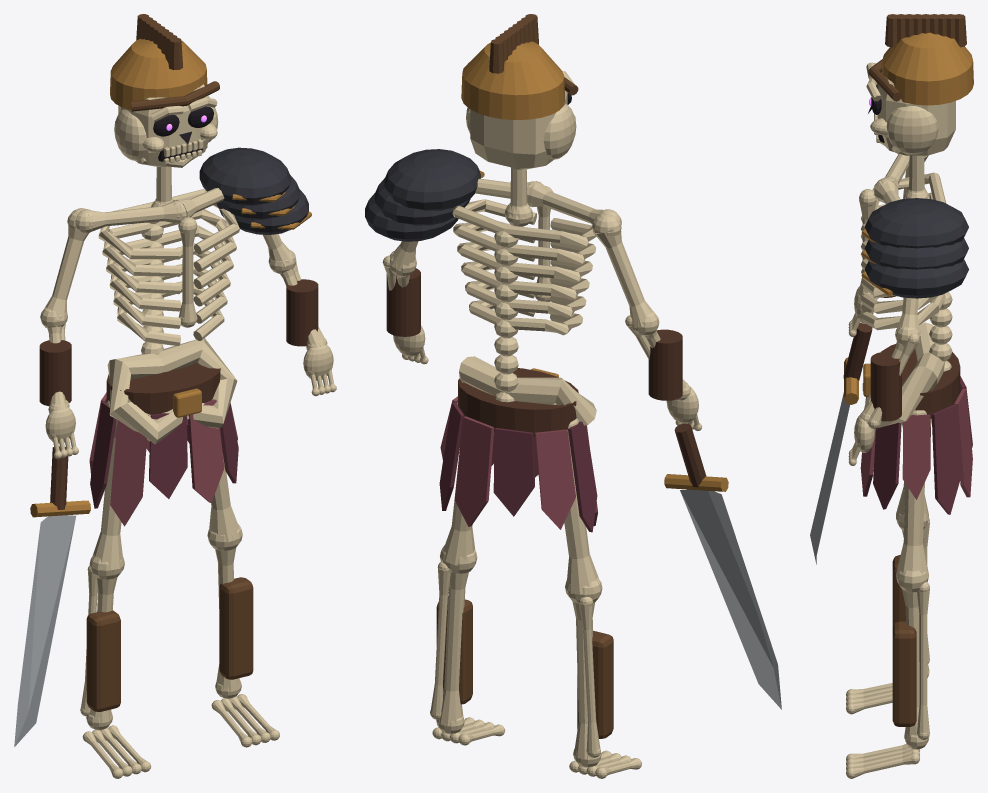
File: melee.glb
3 renders of one model, left to right at view 1: azimuth 30°, elevation 25°; view 2: azimuth 150°, elevation 25°; view 3: azimuth 270°, elevation 25°, orthographic. The views are drawn at different scales.
Parts seen in each view (by area): view 1: Steel sword blade, Open bronze helmet, Layered iron shoulder plate, Bronze shin guard, Bronze shin guard.001, Pelvis arch, Skeleton belt, Ragged cloth strip.006, Pelvis arch.001, Ragged cloth strip.008, Ragged cloth strip.007, Arm guard.001 (+35 smaller); view 2: Steel sword blade, Open bronze helmet, Layered iron shoulder plate, Skeleton belt, Skull cranium, Ragged cloth strip.002, Ragged cloth strip.004, Ragged cloth strip.003, Tibia.001, Arm guard, Bronze shin guard, Pelvis arch (+27 smaller); view 3: Open bronze helmet, Layered iron shoulder plate, Layered iron shoulder plate.002, Bronze shin guard.001, Ragged cloth strip.001, Layered iron shoulder plate.001, Temple.001, Ragged cloth strip, Arm guard.001, Ragged cloth strip.009, Femur.001, Skull cranium (+31 smaller).
Part boxes in pixels (x1,y1,x2,y2): Steel sword blade: (14,515,76,746); Open bronze helmet: (110,38,207,110); Layered iron shoulder plate: (199,147,290,205); Bronze shin guard: (86,610,120,711); Bronze shin guard.001: (219,577,253,679); Pelvis arch: (107,353,187,444); Skeleton belt: (106,363,220,414); Ragged cloth strip.006: (110,415,148,526); Pelvis arch.001: (158,338,237,428); Ragged cloth strip.008: (188,399,224,502); Ragged cloth strip.007: (149,413,187,498); Arm guard.001: (286,279,318,346); Steel sword blade: (680,489,781,709); Open bronze helmet: (461,41,564,119); Layered iron shoulder plate: (384,149,480,210); Skeleton belt: (458,368,578,437); Skull cranium: (470,90,567,169); Ragged cloth strip.002: (454,416,494,526); Ragged cloth strip.004: (535,429,575,529); Ragged cloth strip.003: (493,428,534,516); Tibia.001: (437,572,468,726); Arm guard: (648,329,682,400); Bronze shin guard: (577,630,613,738); Pelvis arch: (505,377,596,425); Open bronze helmet: (882,32,973,105); Layered iron shoulder plate: (864,198,968,248); Layered iron shoulder plate.002: (864,259,968,298); Bronze shin guard.001: (892,621,916,726); Ragged cloth strip.001: (931,404,960,514); Layered iron shoulder plate.001: (864,238,968,269); Temple.001: (886,106,938,154); Ragged cloth strip: (902,414,930,499); Arm guard.001: (870,351,901,421); Ragged cloth strip.009: (873,422,901,509); Femur.001: (896,418,931,579); Skull cranium: (877,72,955,155).
Size of the model in its own units: 0.929 by 1.83 by 0.376.
